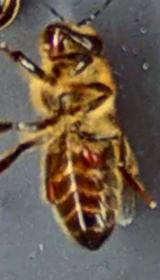varroa_mite: (76, 135, 102, 166), (37, 170, 59, 202)
